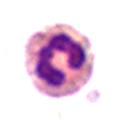eosi: (24, 23, 96, 98)
